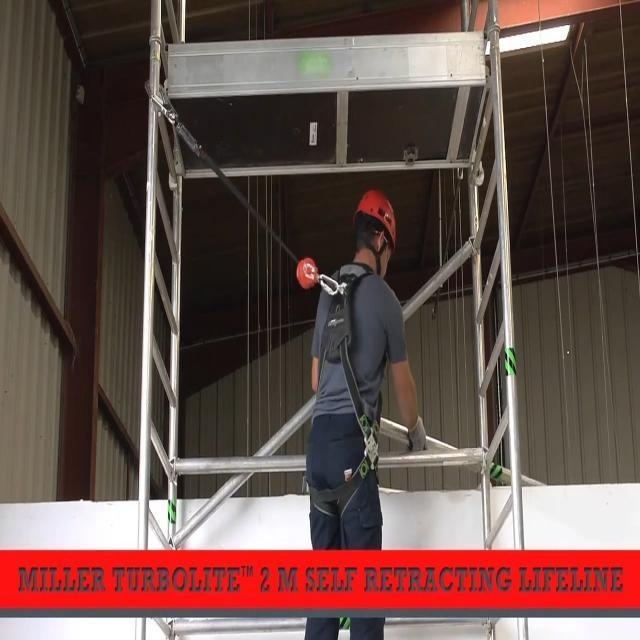Arnes_seguridad: (300, 243, 388, 520)
